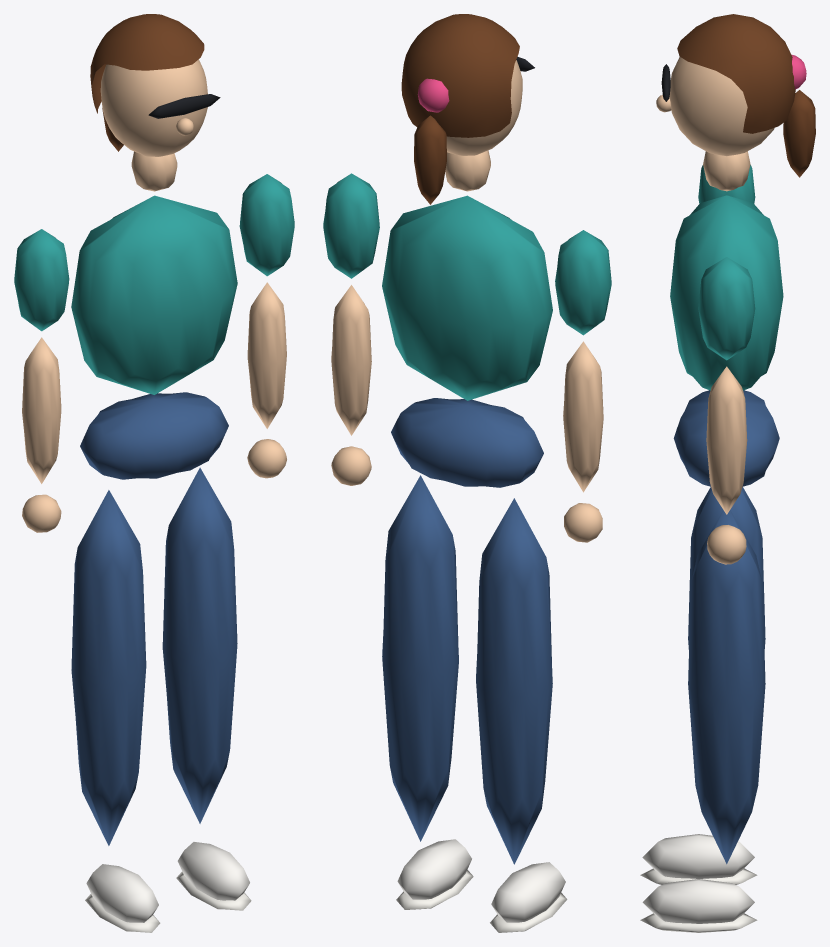
Rendered from getkong-hhped1.glb.
3 views of the same model, side by side, from view 1: azimuth 30°, elevation 25°; view 2: azimuth 150°, elevation 25°; view 3: azimuth 270°, elevation 25° (orthographic). The views are drawn at different scales.
Visible parts, largest first — view 1: rumpf, beinR, beinL, kopf, armR, armL; view 2: rumpf, beinR, beinL, kopf, armR, armL; view 3: beinR, rumpf, kopf, armR, beinL, armL.
Part boxes in pixels (box(x1,y1,x2,y2)): rumpf: box(71, 151, 237, 479); beinR: box(162, 467, 251, 910); beinL: box(71, 490, 160, 932); kopf: box(90, 14, 220, 156); armR: box(239, 174, 294, 478); armL: box(14, 229, 69, 532); rumpf: box(382, 150, 552, 487); beinR: box(382, 475, 473, 909); beinL: box(476, 498, 567, 932); kopf: box(401, 14, 534, 204); armR: box(323, 173, 379, 485); armL: box(555, 230, 611, 542); beinR: box(640, 510, 765, 932); rumpf: box(670, 151, 783, 486); kopf: box(656, 14, 815, 177); armR: box(698, 257, 755, 564); beinL: box(640, 487, 765, 884); armL: box(698, 165, 755, 203).
Bounding box in the file's own units: 0.5718 × 1.74 × 0.3141.
